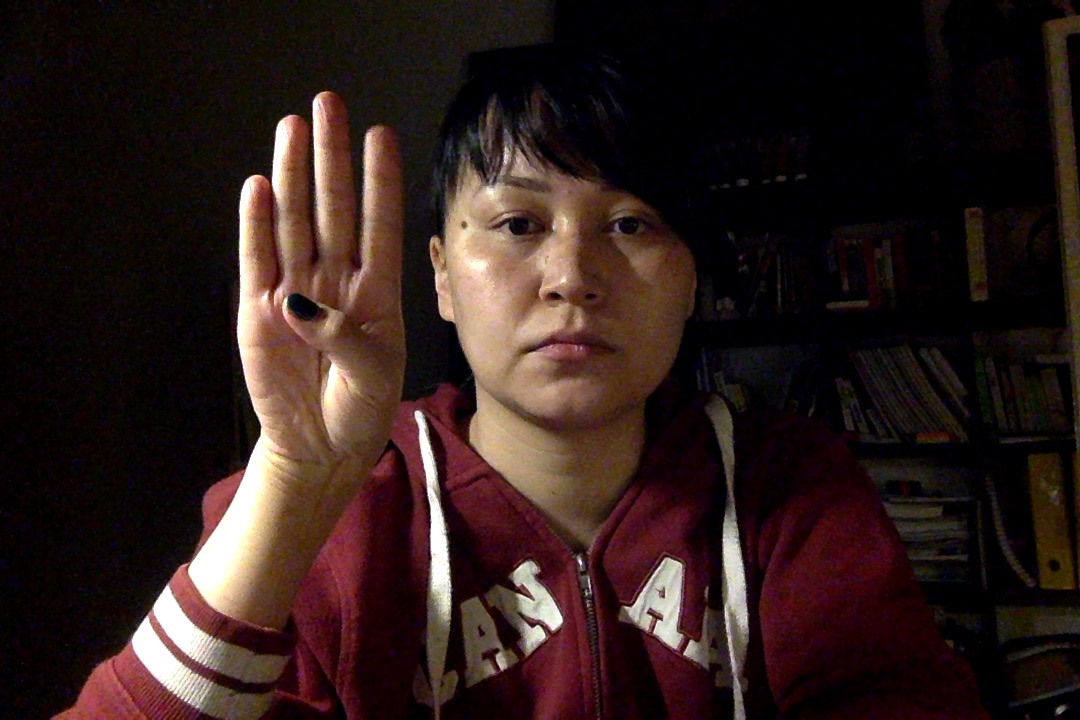b: (197, 76, 436, 503)
